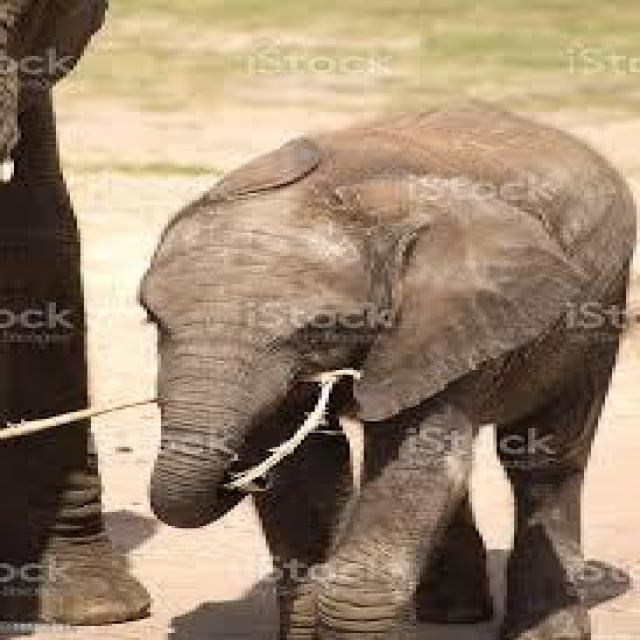Elephant: (133, 97, 640, 640)
